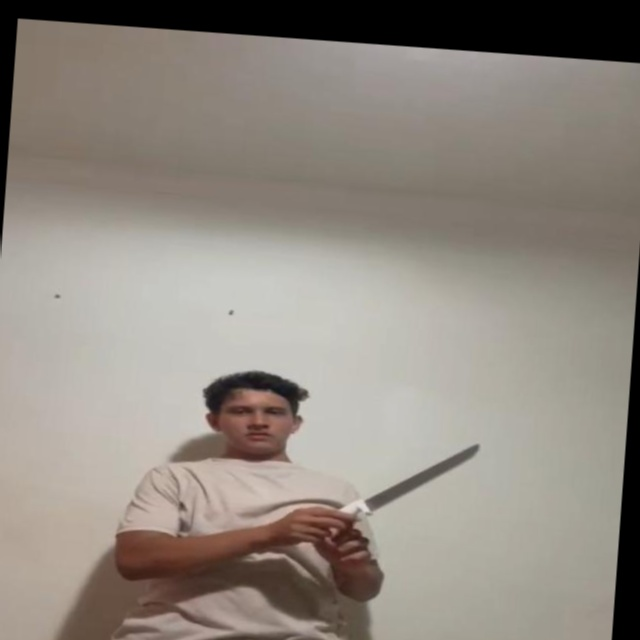Sharp-Object: (366, 436, 481, 516)
